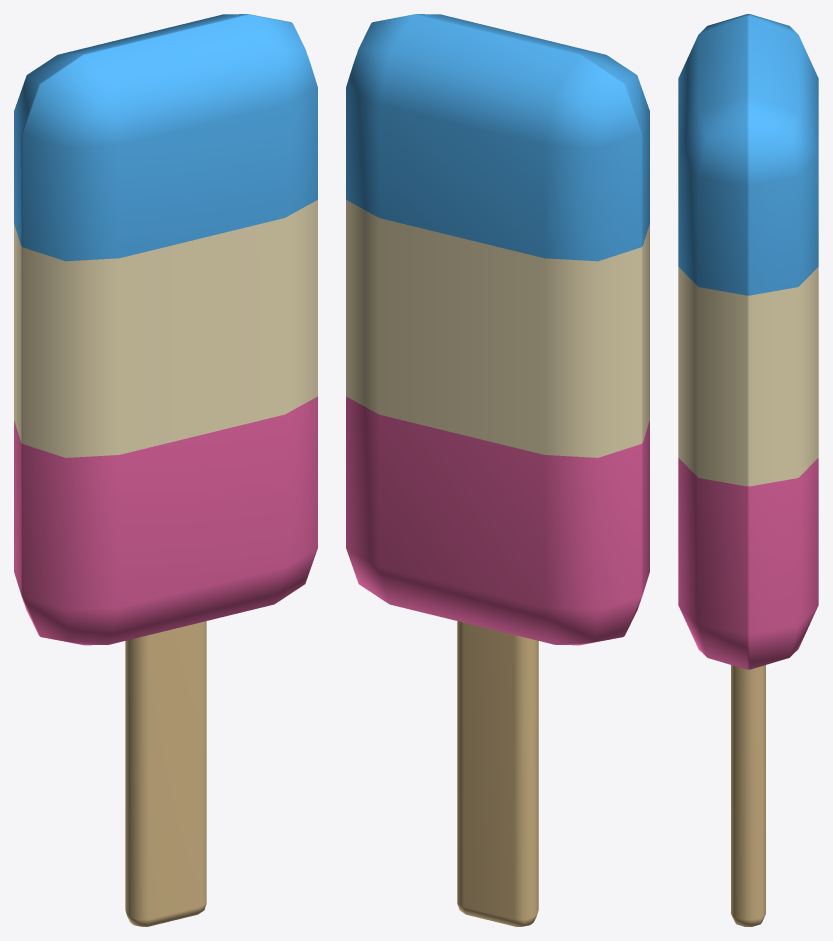
Rendered from Popsicle.fbx.
The picture shows the model from 3 angles, left to right: view 1: azimuth 30°, elevation 25°; view 2: azimuth 150°, elevation 25°; view 3: azimuth 270°, elevation 25°; orthographic projection. The views are drawn at different scales.
Visible parts, largest first — view 1: Popsicle; view 2: Popsicle; view 3: Popsicle.
Boxes of the visible parts, left/top/right/bottom form: Popsicle: left=14, top=14, right=317, bottom=926; Popsicle: left=346, top=14, right=649, bottom=926; Popsicle: left=678, top=14, right=818, bottom=926.
Bounding box in the file's own units: 0.46 × 1.35 × 0.2.
Materials: 1 (1 with a texture image).
